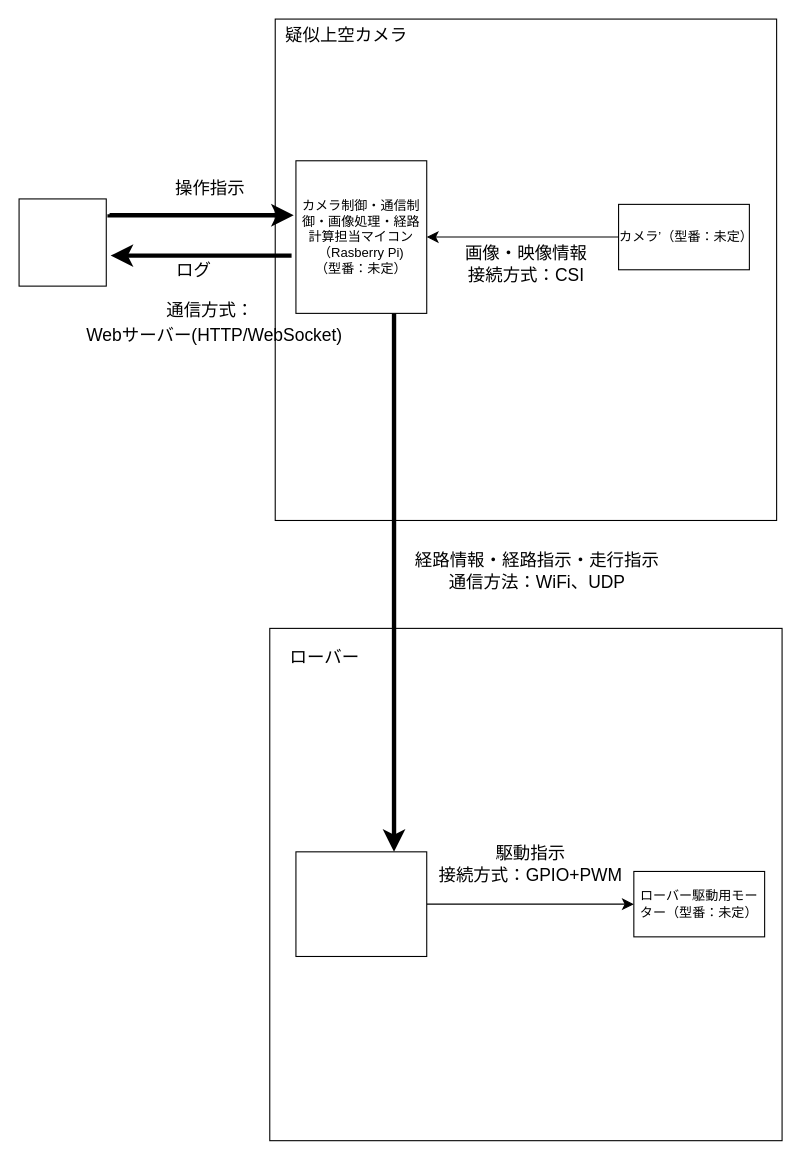
The diagram is 801 pixels wide and 1160 high, and some of its shapes have lost their labels. The shapes that lost their labels are listed below. From the top down, each one's centre as x and y in pixels, then its label:
At (x=62, y=242): "監視・モニター・操作指示用外部PC".
At (x=361, y=903): "モーター制御・通信用マイコン（ESP-32）（型番：未定）".
